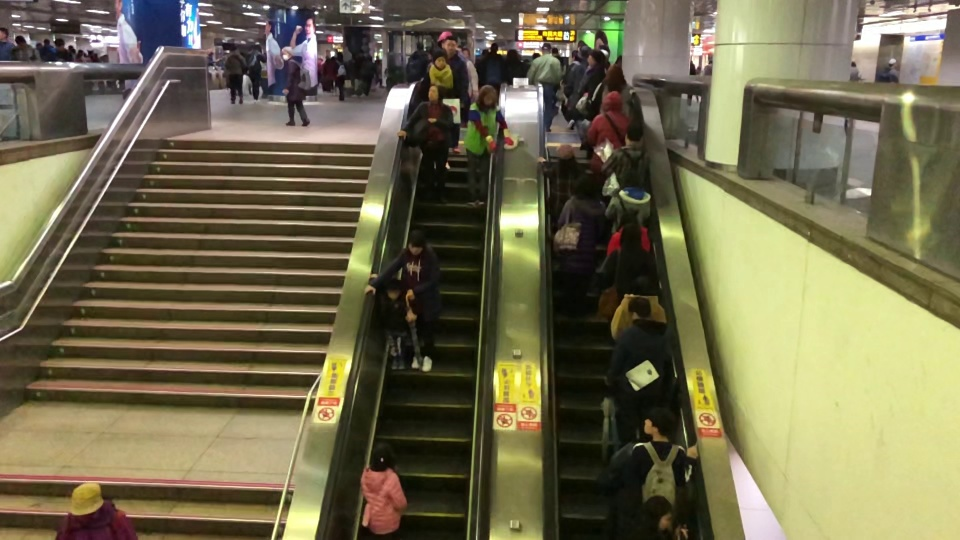person_head: (69, 482, 104, 517), (642, 405, 677, 438), (641, 495, 672, 531), (368, 441, 396, 472), (573, 173, 597, 202), (618, 222, 642, 250), (626, 295, 651, 320), (619, 167, 643, 189), (623, 121, 644, 146), (406, 229, 425, 256), (476, 84, 497, 108), (601, 90, 623, 112), (631, 274, 654, 295), (604, 63, 625, 85), (556, 143, 575, 166), (385, 278, 402, 301), (618, 209, 639, 227), (585, 49, 606, 67), (426, 83, 445, 102), (432, 49, 448, 70), (442, 35, 458, 54), (577, 46, 591, 61), (281, 45, 294, 60), (598, 45, 610, 61), (505, 48, 518, 61), (540, 42, 552, 55), (54, 37, 65, 49), (15, 34, 25, 46), (571, 50, 581, 62), (0, 27, 9, 40), (489, 43, 499, 54), (461, 47, 470, 58), (416, 41, 424, 52), (229, 45, 238, 54), (888, 57, 896, 67), (350, 51, 358, 60), (551, 47, 559, 56), (253, 44, 261, 52), (849, 60, 857, 68), (43, 38, 50, 47), (336, 56, 343, 65), (481, 48, 488, 57), (77, 49, 84, 57), (365, 54, 372, 62), (35, 42, 42, 49), (317, 55, 324, 62), (70, 48, 76, 55), (329, 56, 335, 62), (707, 59, 713, 65), (208, 48, 213, 55), (92, 53, 98, 58), (690, 59, 694, 66), (68, 45, 72, 51), (375, 55, 379, 61)
person_vbox: (608, 405, 698, 540), (364, 229, 443, 373), (604, 295, 674, 445), (555, 173, 607, 318), (396, 83, 455, 205), (462, 84, 514, 208), (596, 222, 662, 302), (358, 441, 409, 540), (53, 482, 139, 540), (419, 49, 460, 169), (535, 143, 586, 235), (609, 274, 667, 342), (585, 90, 633, 172), (377, 278, 417, 372), (600, 121, 651, 194), (577, 49, 610, 150), (603, 167, 652, 234), (442, 35, 470, 152), (526, 42, 562, 133), (584, 63, 635, 121), (623, 495, 688, 540), (278, 45, 311, 127), (566, 46, 592, 130), (605, 209, 650, 256), (223, 44, 247, 105), (562, 50, 581, 113), (478, 43, 507, 84), (246, 43, 266, 102), (500, 48, 528, 84), (405, 41, 428, 83), (551, 47, 564, 116), (9, 34, 34, 61), (360, 54, 374, 98), (687, 59, 699, 106), (347, 51, 359, 97), (0, 27, 16, 61), (38, 38, 57, 62), (54, 37, 73, 61), (336, 56, 346, 101), (326, 56, 338, 93), (883, 57, 899, 83), (374, 54, 383, 88), (259, 60, 266, 99), (317, 54, 324, 93), (849, 60, 860, 81), (703, 59, 713, 76), (207, 48, 215, 66), (75, 48, 84, 63), (35, 42, 42, 61), (70, 48, 76, 63), (91, 52, 100, 62)
